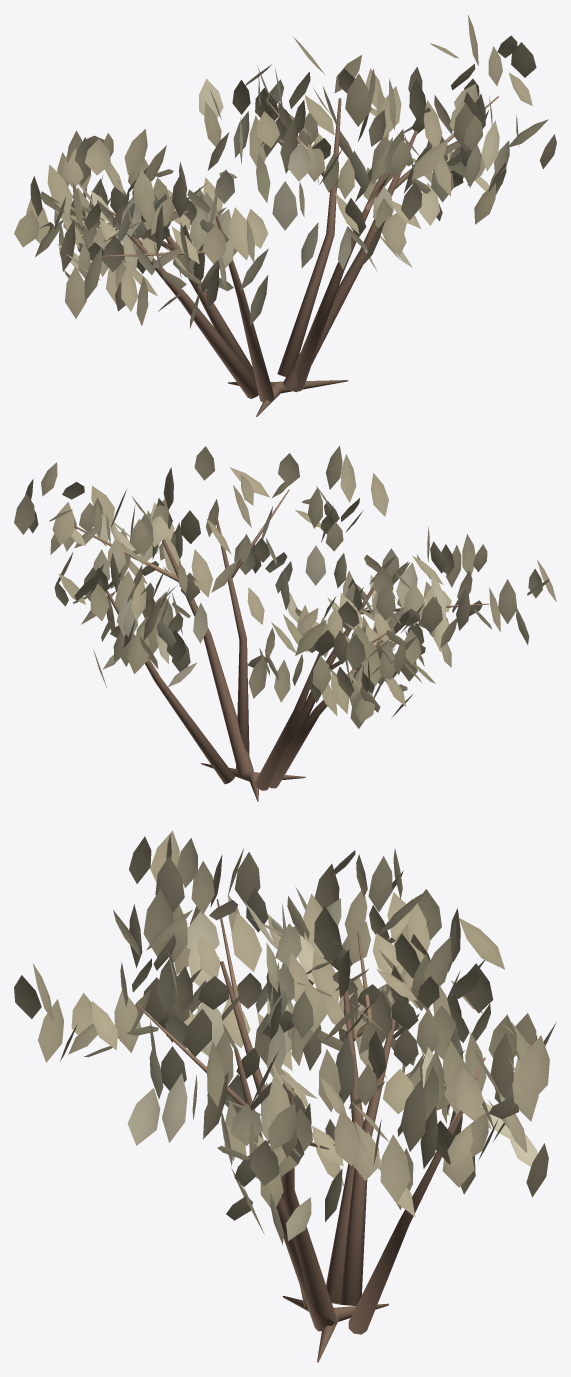
The model's file is bush_3d_02_golden_beige.glb.
3 renders of one model, top to bottom at view 1: azimuth 30°, elevation 25°; view 2: azimuth 150°, elevation 25°; view 3: azimuth 270°, elevation 25°, orthographic. The views are drawn at different scales.
Parts seen in each view (by area): view 1: bush_3d_02_golden_beige_foliage, bush_3d_02_golden_beige_wood; view 2: bush_3d_02_golden_beige_foliage, bush_3d_02_golden_beige_wood; view 3: bush_3d_02_golden_beige_foliage, bush_3d_02_golden_beige_wood.
Boxes of the visible parts, <box> form: bush_3d_02_golden_beige_foliage: <box>14,15,556,328</box>; bush_3d_02_golden_beige_wood: <box>88,96,498,416</box>; bush_3d_02_golden_beige_foliage: <box>14,445,556,728</box>; bush_3d_02_golden_beige_wood: <box>74,489,488,801</box>; bush_3d_02_golden_beige_foliage: <box>14,830,556,1244</box>; bush_3d_02_golden_beige_wood: <box>136,899,485,1362</box>.
Bounding box in the file's own units: 2.71 × 1.53 × 1.87.
